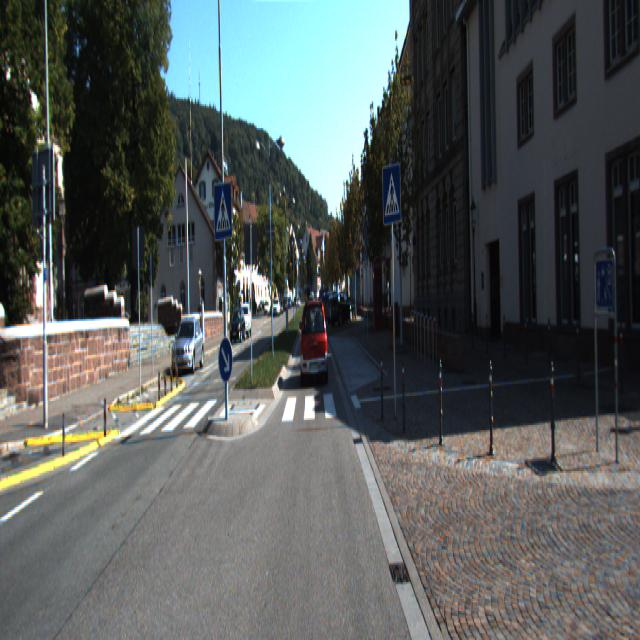Car: (301, 301, 329, 387), (170, 320, 205, 375), (330, 293, 353, 327), (230, 312, 246, 346), (237, 306, 253, 340)
